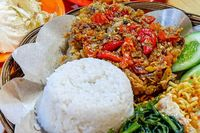ayam_geprek: (76, 3, 178, 83)
